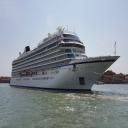cruises: (10, 24, 123, 96)
